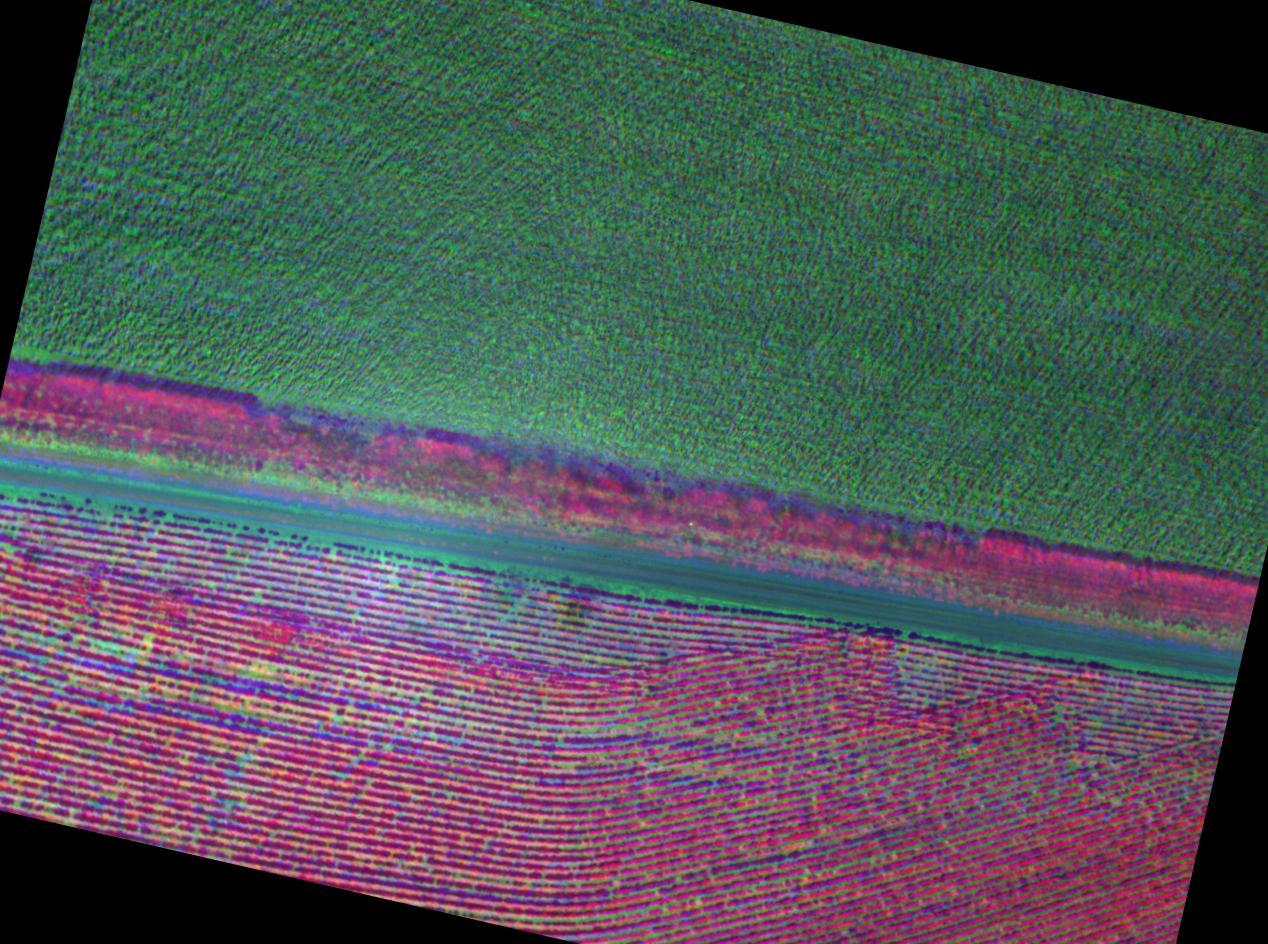dc: (145, 638, 150, 643), (568, 764, 571, 768), (131, 649, 134, 652)
